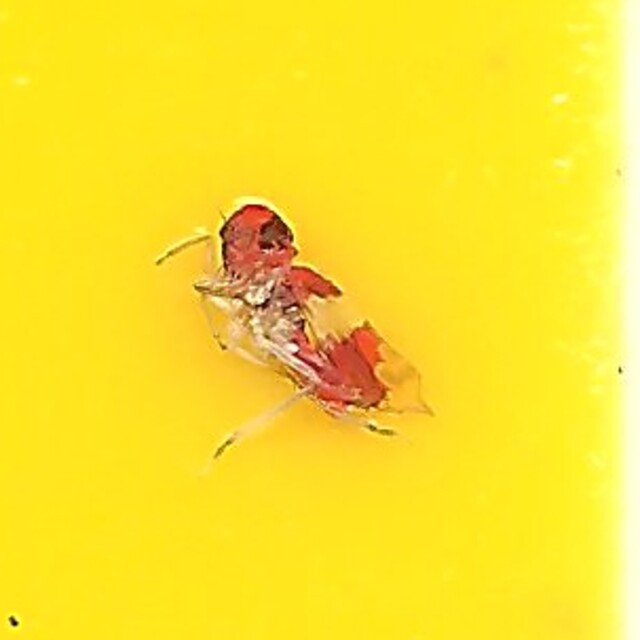Hemiptera: (211, 204, 429, 436)
